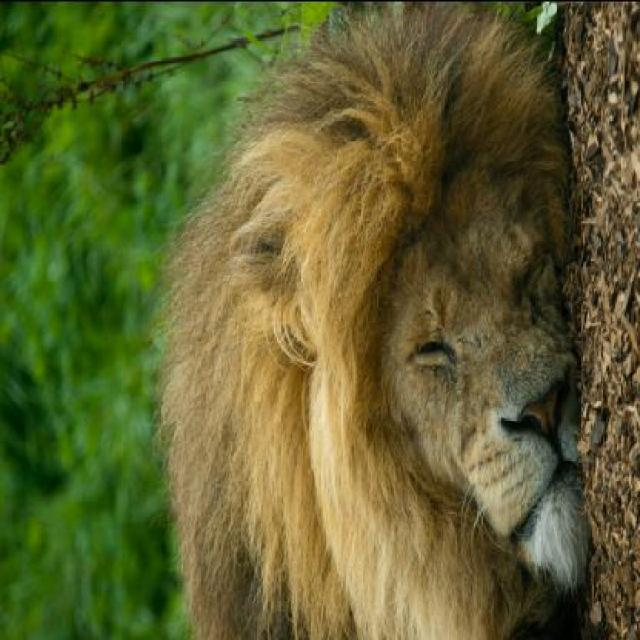Lion: (117, 14, 638, 638)
